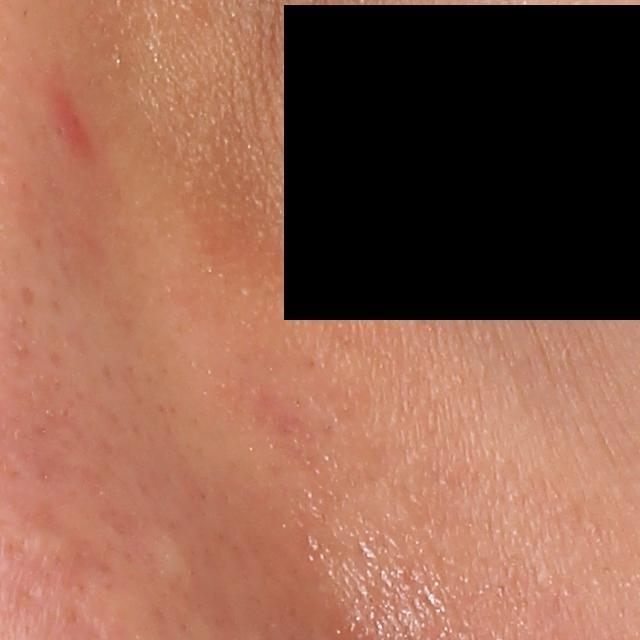hypertrophic_scar: (152, 531, 201, 592)
